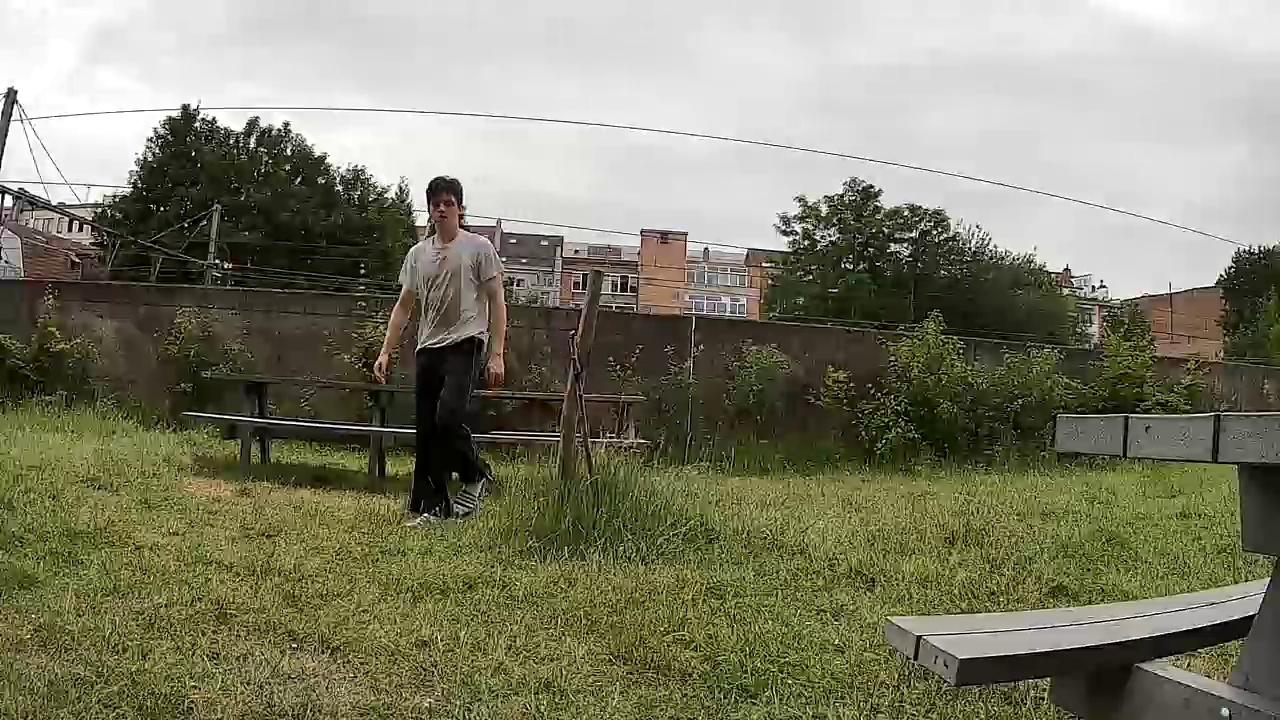korban: (366, 166, 514, 527)
